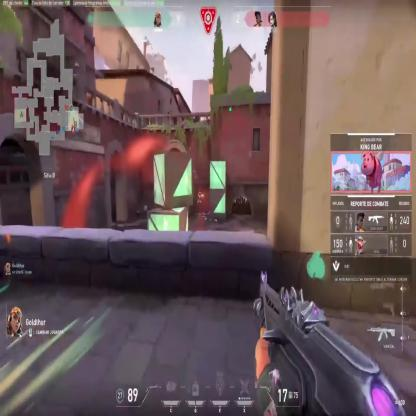enemy: (196, 191, 203, 213)
enemy_head: (198, 191, 200, 195)
